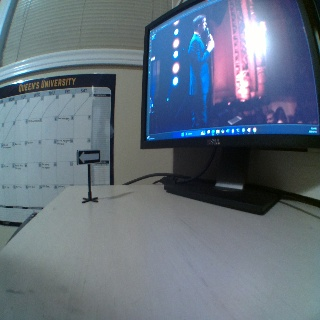sign_oneway_left: (76, 148, 100, 164)
